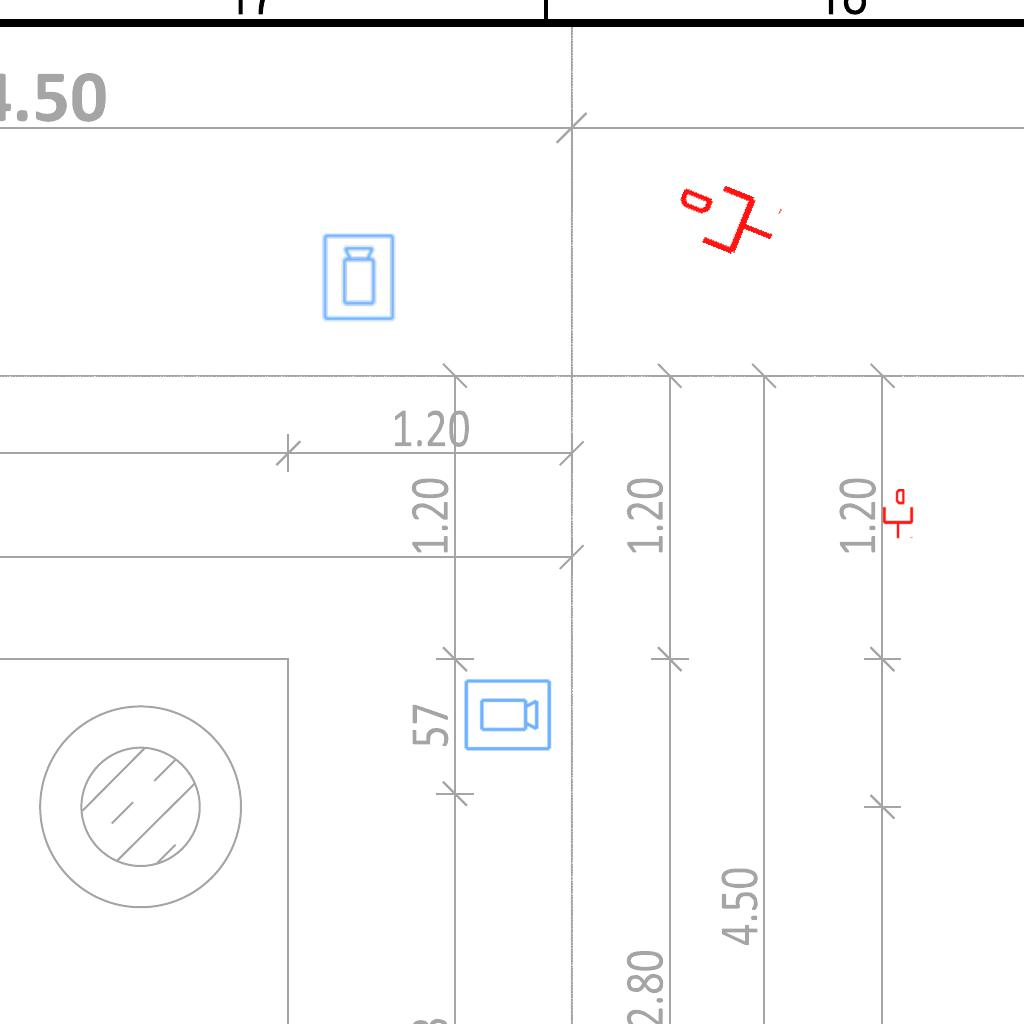Datenanschluss_einfach: (667, 168, 786, 270), (881, 489, 915, 539)
KFO_Kamera_mit_Festobjektiv: (321, 232, 398, 323), (462, 677, 553, 754)
